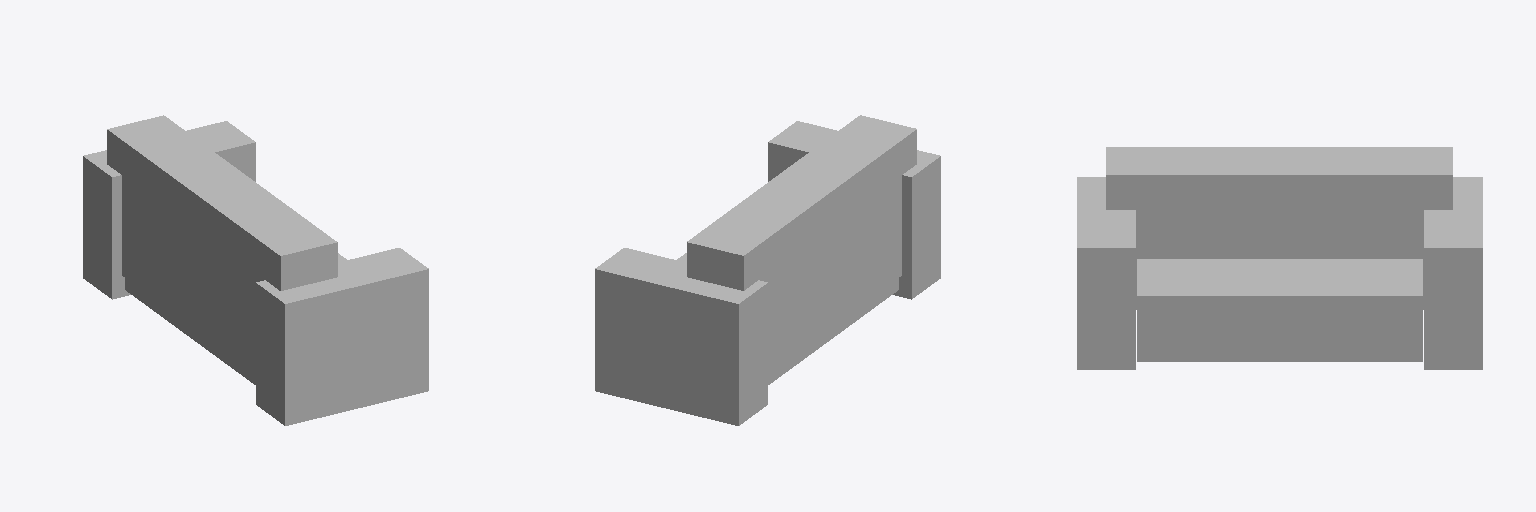
The model's file is couch.obj.
3 renders of one model, left to right at view 1: azimuth 30°, elevation 25°; view 2: azimuth 150°, elevation 25°; view 3: azimuth 270°, elevation 25°, orthographic.
Parts seen in each view (by area): view 1: Cube, Cube.003, Cube.001, Cube.002; view 2: Cube, Cube.001, Cube.003, Cube.002; view 3: Cube, Cube.002, Cube.001, Cube.003.
Part boxes in pixels (bbox=[...]): Cube: bbox=[107, 115, 337, 372]; Cube.003: bbox=[256, 248, 428, 425]; Cube.001: bbox=[83, 121, 255, 299]; Cube.002: bbox=[125, 253, 346, 384]; Cube: bbox=[687, 115, 916, 372]; Cube.001: bbox=[595, 248, 767, 425]; Cube.003: bbox=[768, 121, 940, 299]; Cube.002: bbox=[677, 253, 898, 384]; Cube: bbox=[1106, 147, 1452, 309]; Cube.002: bbox=[1137, 259, 1422, 361]; Cube.001: bbox=[1424, 177, 1482, 369]; Cube.003: bbox=[1077, 177, 1135, 369].
Bounding box in the file's own units: 2.22 × 2.32 × 5.42.